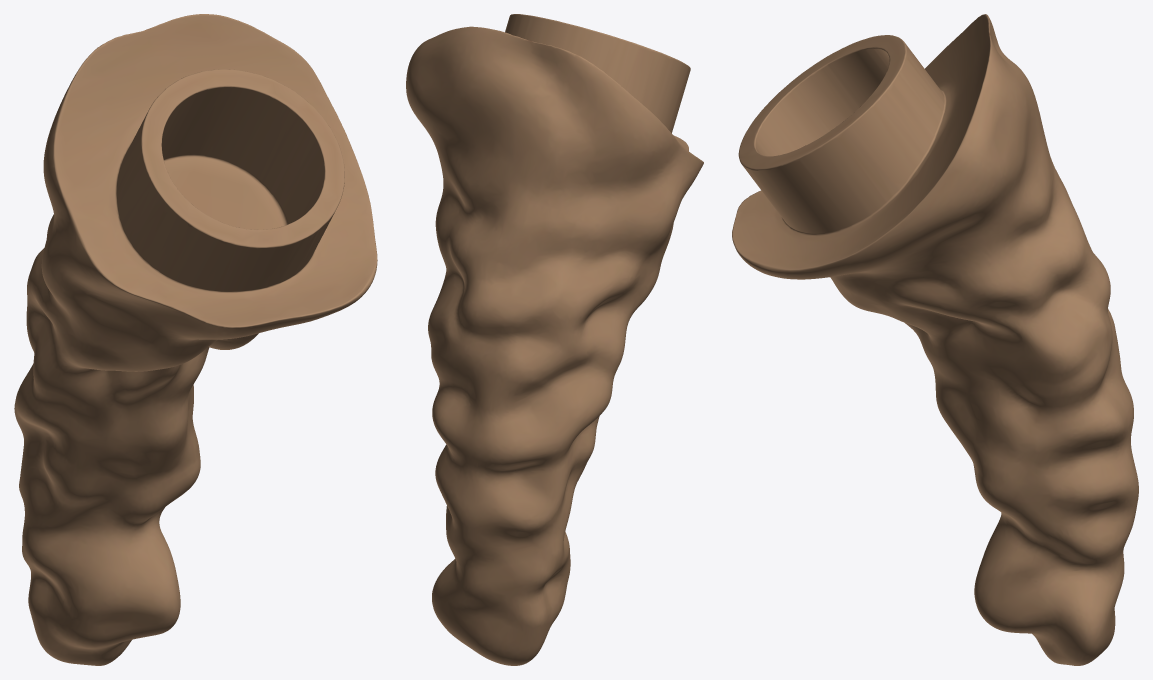
The model's file is Queue_Mouton.glb.
3 views of the same model, side by side, from view 1: azimuth 30°, elevation 25°; view 2: azimuth 150°, elevation 25°; view 3: azimuth 270°, elevation 25° (orthographic). The views are drawn at different scales.
Parts seen in each view (by area): view 1: Queue_Mouton; view 2: Queue_Mouton; view 3: Queue_Mouton.
Part boxes in pixels (x1,y1,x2,y2): Queue_Mouton: (14, 14, 377, 665); Queue_Mouton: (406, 14, 703, 665); Queue_Mouton: (732, 14, 1138, 665).
Bounding box in the file's own units: 1.14 × 2.5 × 1.45.
